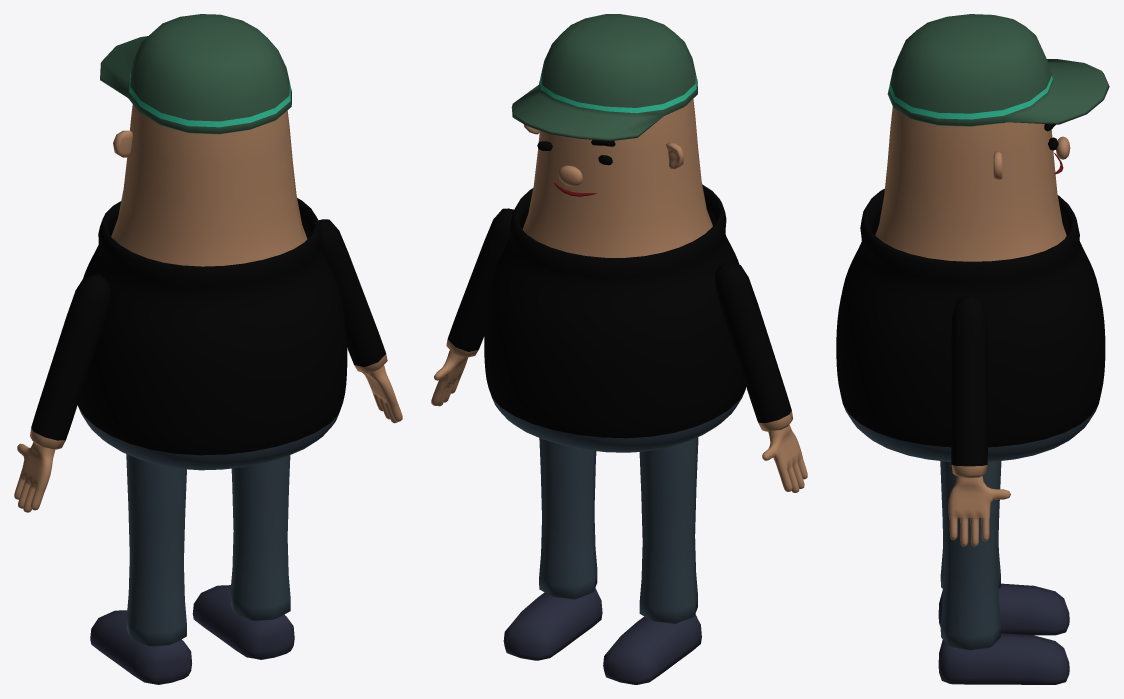
Rendered from Customer5.fbx.
The picture shows the model from 3 angles, left to right: view 1: azimuth 30°, elevation 25°; view 2: azimuth 150°, elevation 25°; view 3: azimuth 270°, elevation 25°; orthographic projection. The views are drawn at different scales.
Visible parts, largest first — view 1: Customer_5; view 2: Customer_5; view 3: Customer_5.
Boxes of the visible parts, x1=… form: Customer_5: x1=14, y1=14, x2=402, y2=684; Customer_5: x1=431, y1=14, x2=807, y2=684; Customer_5: x1=836, y1=14, x2=1109, y2=684.
Size of the model in its own units: 260 by 165 by 417.
